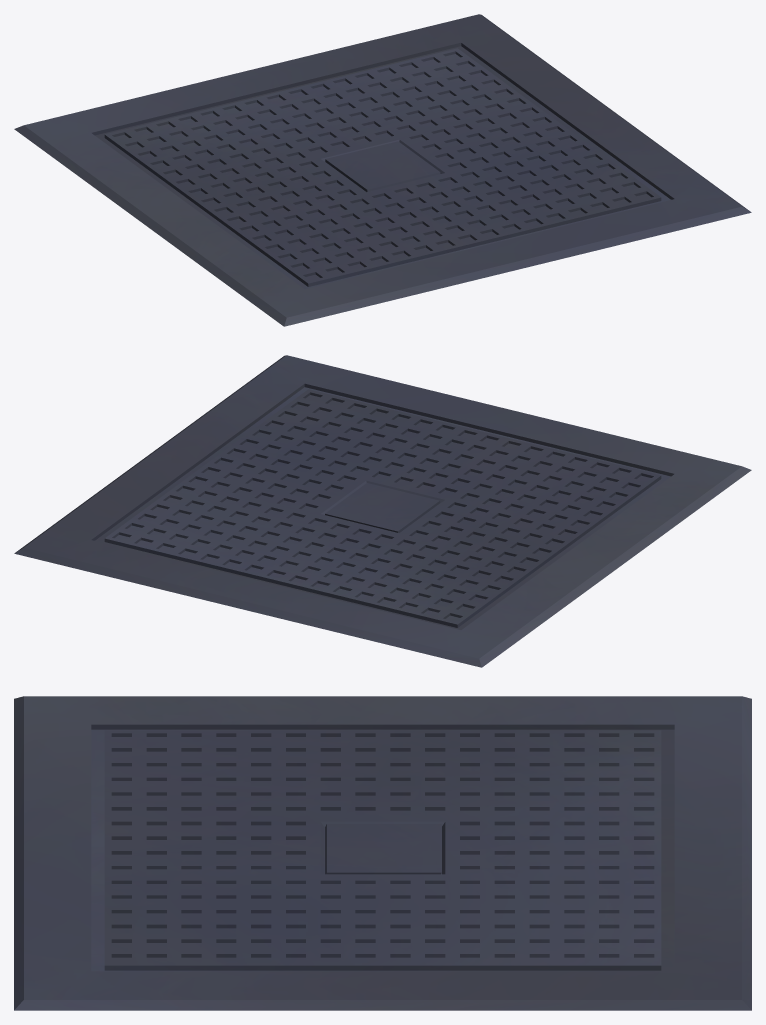
Rendered from Floor_01.fbx.
The picture shows the model from 3 angles, top to bottom: view 1: azimuth 30°, elevation 25°; view 2: azimuth 150°, elevation 25°; view 3: azimuth 270°, elevation 25°; orthographic projection. The views are drawn at different scales.
Visible parts, largest first — view 1: Cube; view 2: Cube; view 3: Cube.
Part boxes in pixels (box(x1,y1,x2,y2)): Cube: box(14, 14, 751, 326); Cube: box(14, 355, 751, 667); Cube: box(14, 696, 751, 1010).
Bounding box in the file's own units: 10 × 0.1 × 10.
Materials: 1 (1 with a texture image).
